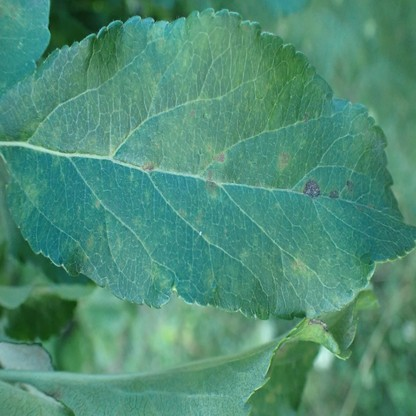scab: (5, 12, 377, 287), (275, 342, 294, 359), (1, 4, 18, 20), (266, 385, 281, 402)
